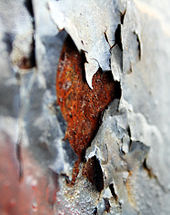rust: (61, 56, 82, 129), (96, 82, 110, 100)
